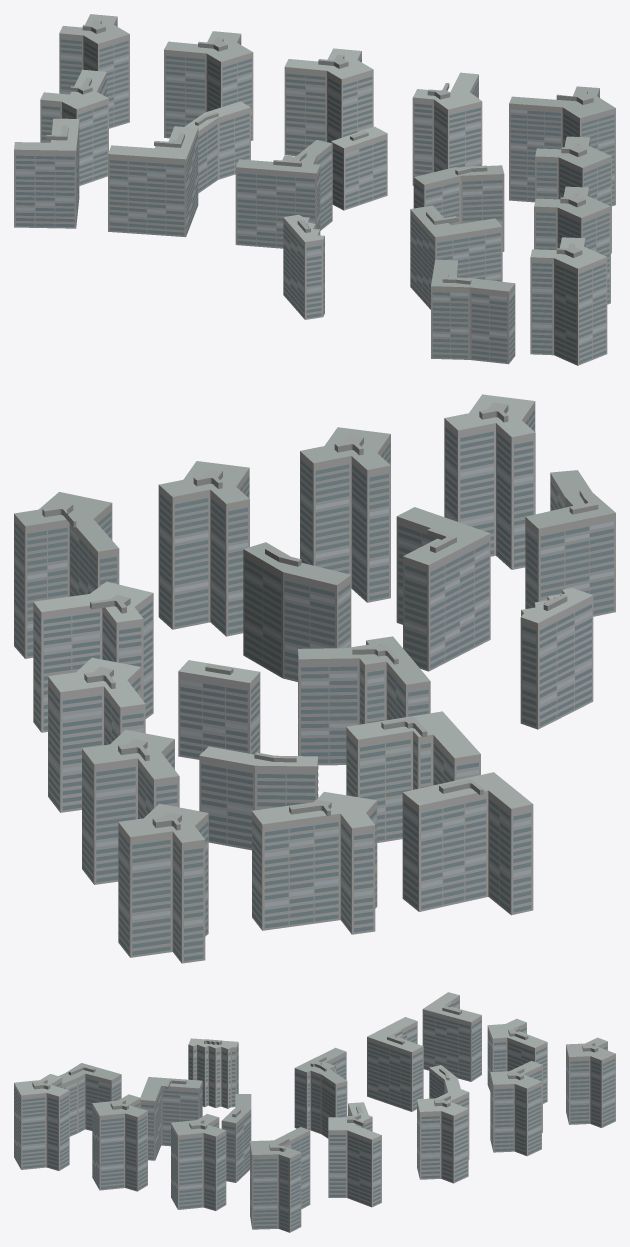
Rendered from apt-a13778205.glb.
3 views of the same model, one above another, from view 1: azimuth 30°, elevation 25°; view 2: azimuth 150°, elevation 25°; view 3: azimuth 270°, elevation 25° (orthographic). The views are drawn at different scales.
Parts seen in each view (by area): view 1: apt-a13778205; view 2: apt-a13778205; view 3: apt-a13778205.
Part boxes in pixels (x1=…): apt-a13778205: x1=14, y1=14, x2=615, y2=365; apt-a13778205: x1=14, y1=394, x2=615, y2=963; apt-a13778205: x1=14, y1=992, x2=615, y2=1232.
Size of the model in its own units: 279 by 56 by 392.
